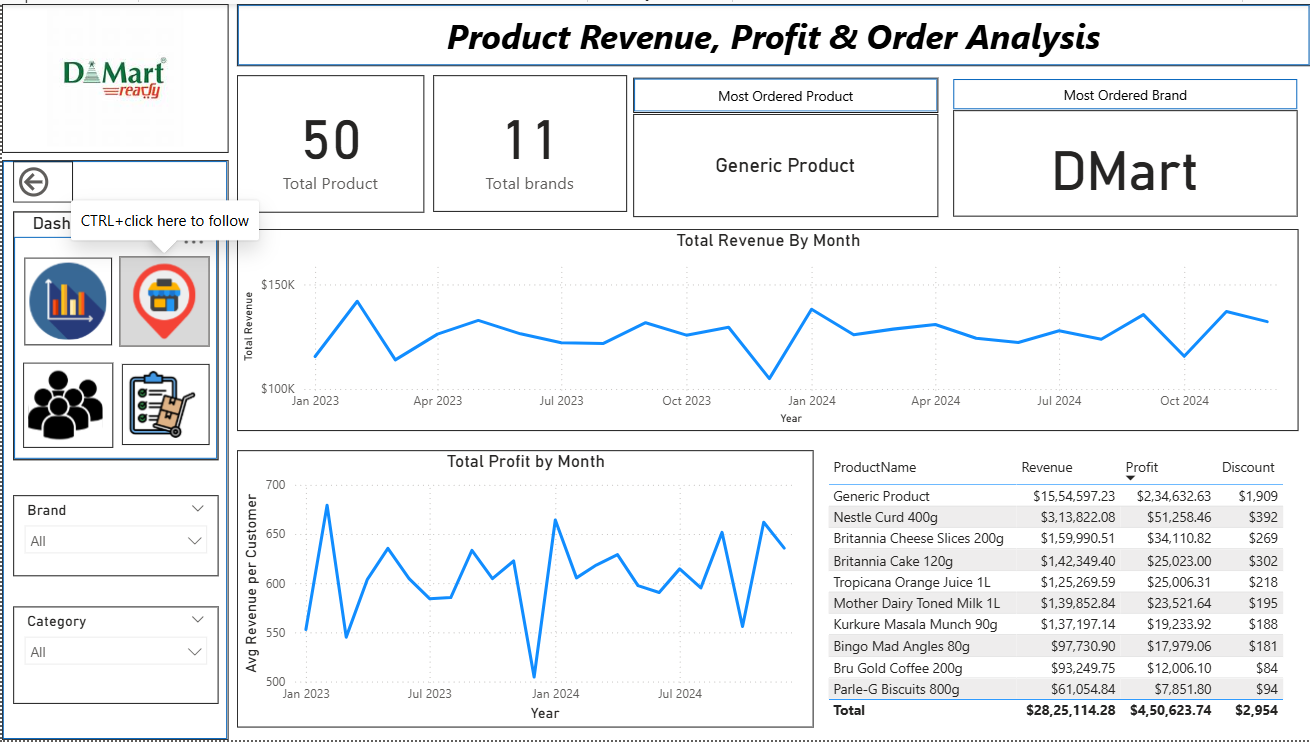

The page's visual inventory and layout, read from the dashboard file:
{"tool":"powerbi","page":{"name":"Page 4","canvas":[1280,720],"ordinal":3},"visuals":[{"type":"image","box":[0,0,221.3,145.5],"z":0},{"type":"card","fields":{"Values":["Min(ProductDim.Brand)"]},"box":[931.1,103.6,337,104.3],"z":0,"group":"g2"},{"type":"card","fields":{"Values":["Min(ProductDim.ProductName)"]},"box":[617.5,107,298.4,100.9],"z":0,"group":"g1"},{"type":"shape","title":"Dashboard Navigation","box":[11,203,200.5,243.3],"z":0,"group":"g3"},{"type":"shape","box":[618.1,71.7,298.4,34.2],"z":1000,"group":"g1"},{"type":"shape","box":[930.6,73.4,336.5,29.6],"z":1000,"group":"g2"},{"type":"shape","box":[0,152.9,221.3,567.4],"z":1000},{"type":"actionButton","box":[22,248.3,85.6,85.6],"z":1000,"group":"g3"},{"type":"shape","box":[229.9,0,1050.4,61.1],"z":2000},{"type":"actionButton","box":[114.9,247,88,88],"z":2000,"group":"g3"},{"type":"card","fields":{"Values":["Measure Table .Total Product"]},"box":[229.9,69.7,183.4,134.5],"z":3000},{"type":"actionButton","box":[20.8,351,88,83.2],"z":3000,"group":"g3"},{"type":"card","fields":{"Values":["Measure Table .Total brands"]},"box":[421.9,69.7,189.5,133.3],"z":4000},{"type":"actionButton","box":[117.4,352.2,85.6,79.5],"z":4000,"group":"g3"},{"type":"group","id":"g1","title":"Group 1","box":[617.5,71.7,298.9,136.2],"z":5000},{"type":"group","id":"g2","title":"Group 2","box":[930.6,73.4,337.5,134.5],"z":6000},{"type":"lineChart","title":"Total Revenue By Month","fields":{"Y":["Measure Table .Total Revenue"],"Category":["Date_Dim.Start of Month.Variation.Date Hierarchy.Year","Date_Dim.Start of Month.Variation.Date Hierarchy.Quarter","Date_Dim.Start of Month.Variation.Date Hierarchy.Month","Date_Dim.Start of Month.Variation.Date Hierarchy.Day"]},"box":[230.4,220.4,1038.2,197.7],"z":7000},{"type":"lineChart","title":"Total Profit by Month","fields":{"Category":["Date_Dim.Start of Month.Variation.Date Hierarchy.Year","Date_Dim.Start of Month.Variation.Date Hierarchy.Quarter","Date_Dim.Start of Month.Variation.Date Hierarchy.Month","Date_Dim.Start of Month.Variation.Date Hierarchy.Day"],"Y":["Measure Table .Avg Revenue per Customer"]},"box":[229.9,436.6,563.7,271.5],"z":8000},{"type":"tableEx","fields":{"Values":["ProductDim.ProductName","Measure Table .Total Revenue","Measure Table .Total Profit","Measure Table .Total Discount"]},"box":[802.2,436.6,465.9,271.5],"z":9000},{"type":"slicer","fields":{"Values":["ProductDim.Category"]},"box":[11,589.4,200.5,95.4],"z":10000},{"type":"slicer","fields":{"Values":["ProductDim.Brand"]},"box":[11,480.6,200.5,79.5],"z":11000},{"type":"actionButton","box":[11,154.1,58.7,40.4],"z":13000},{"type":"group","id":"g3","title":"Group 3","box":[11,203,200.5,243.3],"z":13001}]}

Visuals, with their boxes on the page's 1280x720 design canvas (x1, y1, x2, y2). These are canvas units, not pixel positions in the 1310x745 screenshot, which may show the page scaled, cropped or inside an application window:
image: left=0, top=0, right=221, bottom=146
card - Min(ProductDim.Brand): left=931, top=104, right=1268, bottom=208
card - Min(ProductDim.ProductName): left=618, top=107, right=916, bottom=208
"Dashboard Navigation" shape: left=11, top=203, right=212, bottom=446
shape: left=618, top=72, right=916, bottom=106
shape: left=931, top=73, right=1267, bottom=103
shape: left=0, top=153, right=221, bottom=720
actionButton: left=22, top=248, right=108, bottom=334
shape: left=230, top=0, right=1280, bottom=61
actionButton: left=115, top=247, right=203, bottom=335
card - Measure Table .Total Product: left=230, top=70, right=413, bottom=204
actionButton: left=21, top=351, right=109, bottom=434
card - Measure Table .Total brands: left=422, top=70, right=611, bottom=203
actionButton: left=117, top=352, right=203, bottom=432
"Group 1" group: left=618, top=72, right=916, bottom=208
"Group 2" group: left=931, top=73, right=1268, bottom=208
"Total Revenue By Month" lineChart: left=230, top=220, right=1269, bottom=418
"Total Profit by Month" lineChart: left=230, top=437, right=794, bottom=708
tableEx - ProductDim.ProductName x Measure Table .Total Revenue: left=802, top=437, right=1268, bottom=708
slicer - ProductDim.Category: left=11, top=589, right=212, bottom=685
slicer - ProductDim.Brand: left=11, top=481, right=212, bottom=560
actionButton: left=11, top=154, right=70, bottom=194
"Group 3" group: left=11, top=203, right=212, bottom=446
